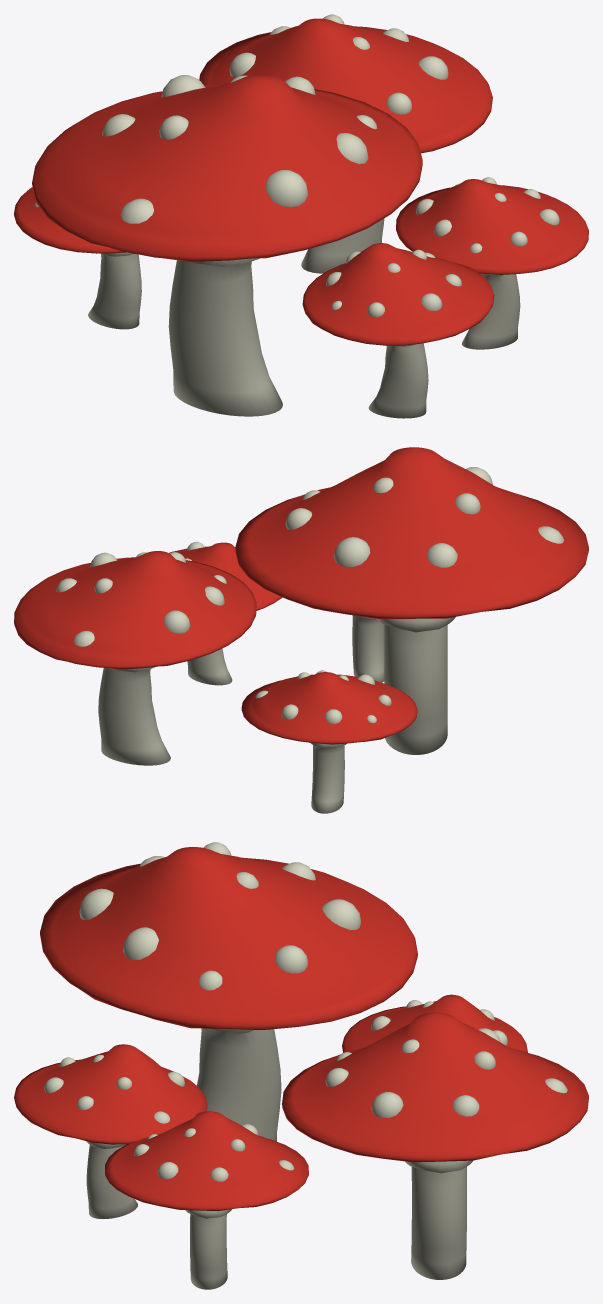
The model's file is mantarbig.fbx.
3 renders of one model, top to bottom at view 1: azimuth 30°, elevation 25°; view 2: azimuth 150°, elevation 25°; view 3: azimuth 270°, elevation 25°, orthographic. The views are drawn at different scales.
Visible parts, largest first — view 1: mantar.020; view 2: mantar.020; view 3: mantar.020.
Boxes of the visible parts, x1,y1,x2,y2 form: mantar.020: (14,14,588,418); mantar.020: (14,447,588,813); mantar.020: (14,842,588,1289).
Size of the model in its own units: 127 by 75.21 by 124.
